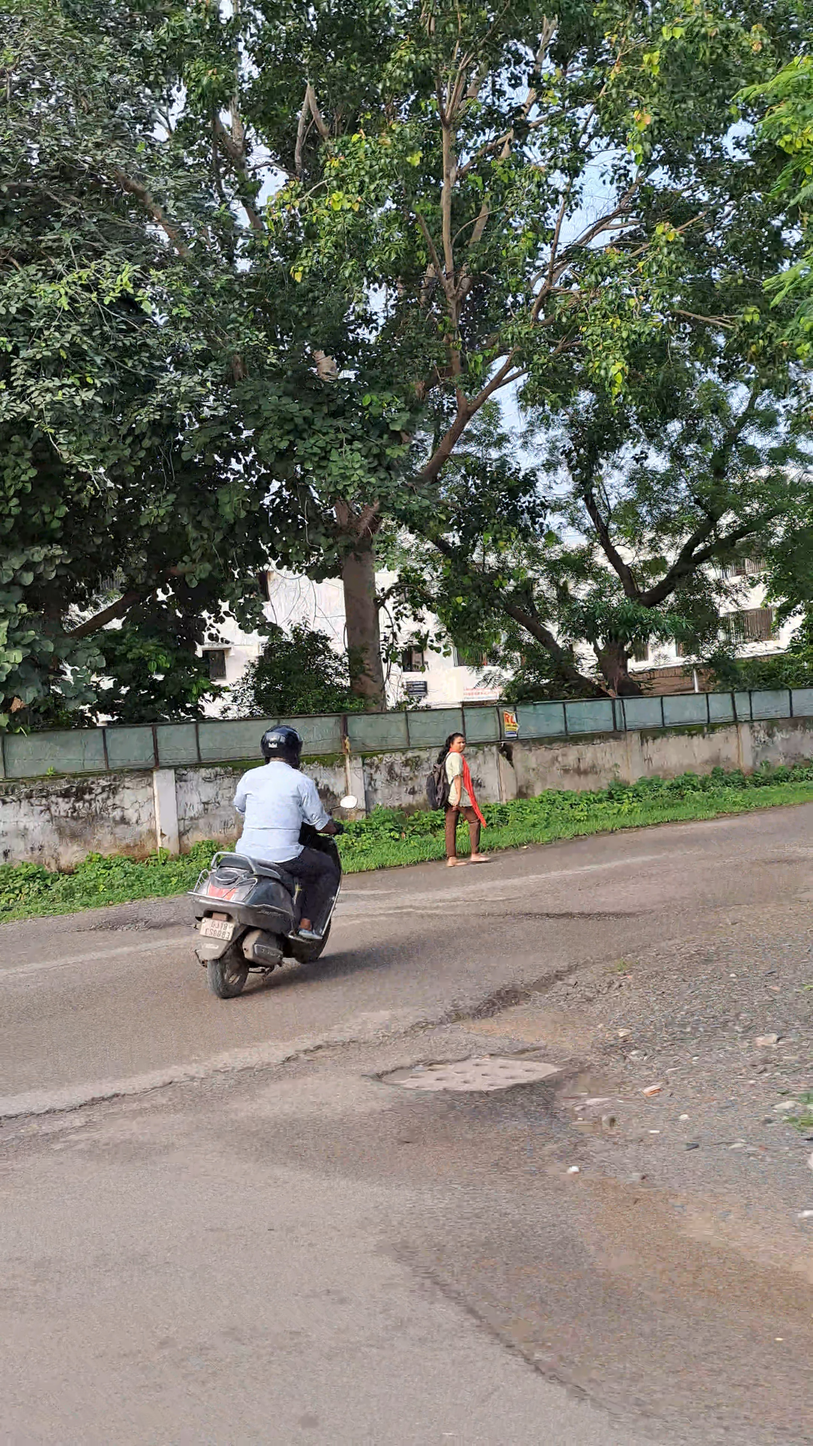BikeWithRider: (175, 716, 361, 1008)
Helmet: (251, 718, 313, 778)
